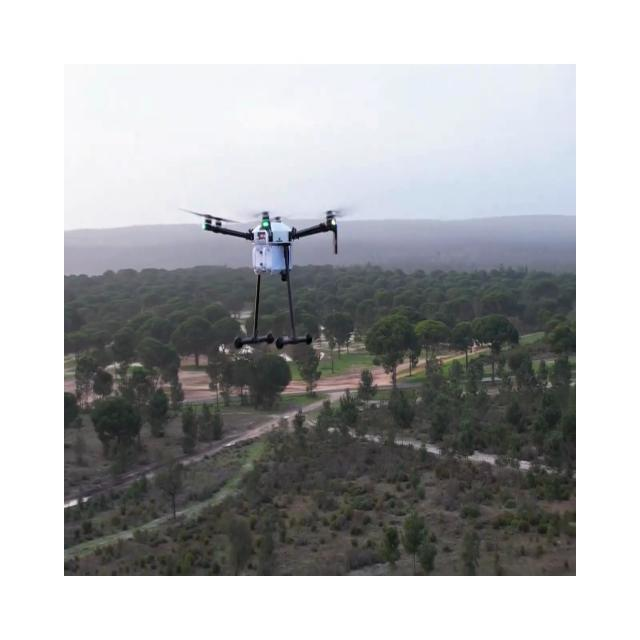drone: (178, 205, 352, 351)
